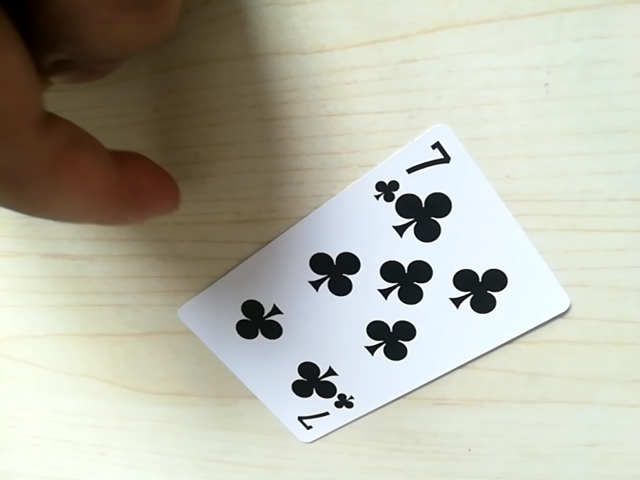mh 7: (285, 391, 360, 435), (388, 133, 456, 181)
